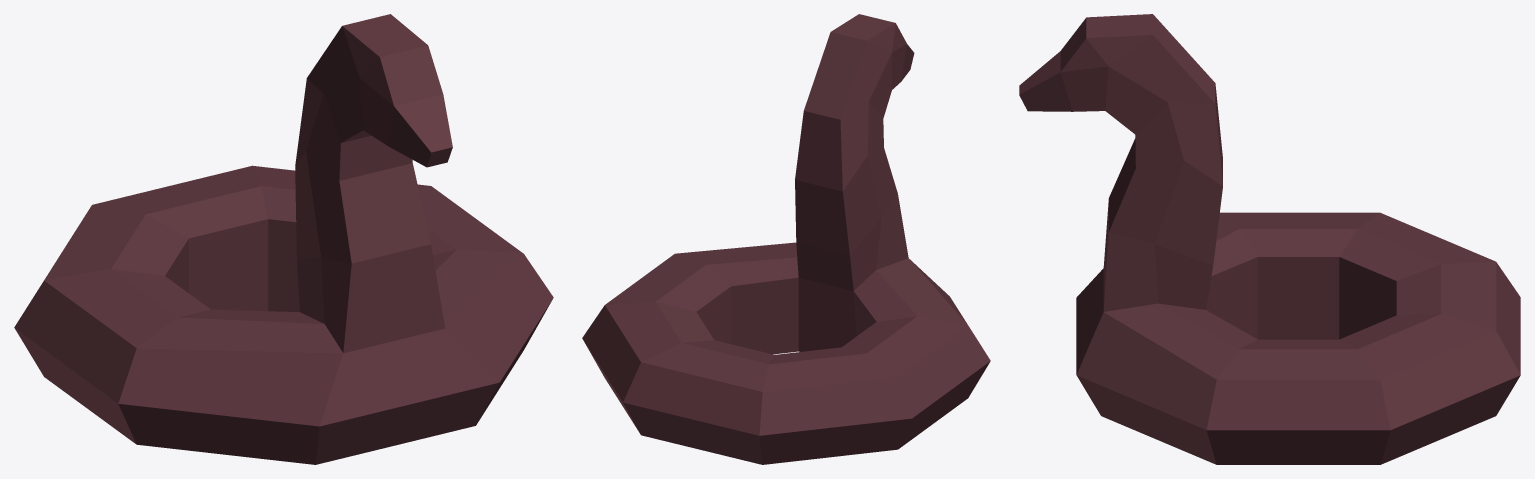
Rendered from inflatable-swan-small.fbx.
3 renders of one model, left to right at view 1: azimuth 30°, elevation 25°; view 2: azimuth 150°, elevation 25°; view 3: azimuth 270°, elevation 25°, orthographic. The views are drawn at different scales.
Visible parts, largest first — view 1: inflatable-swan-small; view 2: inflatable-swan-small; view 3: inflatable-swan-small.
Part boxes in pixels (x1=…): inflatable-swan-small: x1=14, y1=14, x2=553, y2=464; inflatable-swan-small: x1=582, y1=14, x2=990, y2=464; inflatable-swan-small: x1=1019, y1=14, x2=1520, y2=464.
Bounding box in the file's own units: 0.8322 × 0.7633 × 0.9395.
